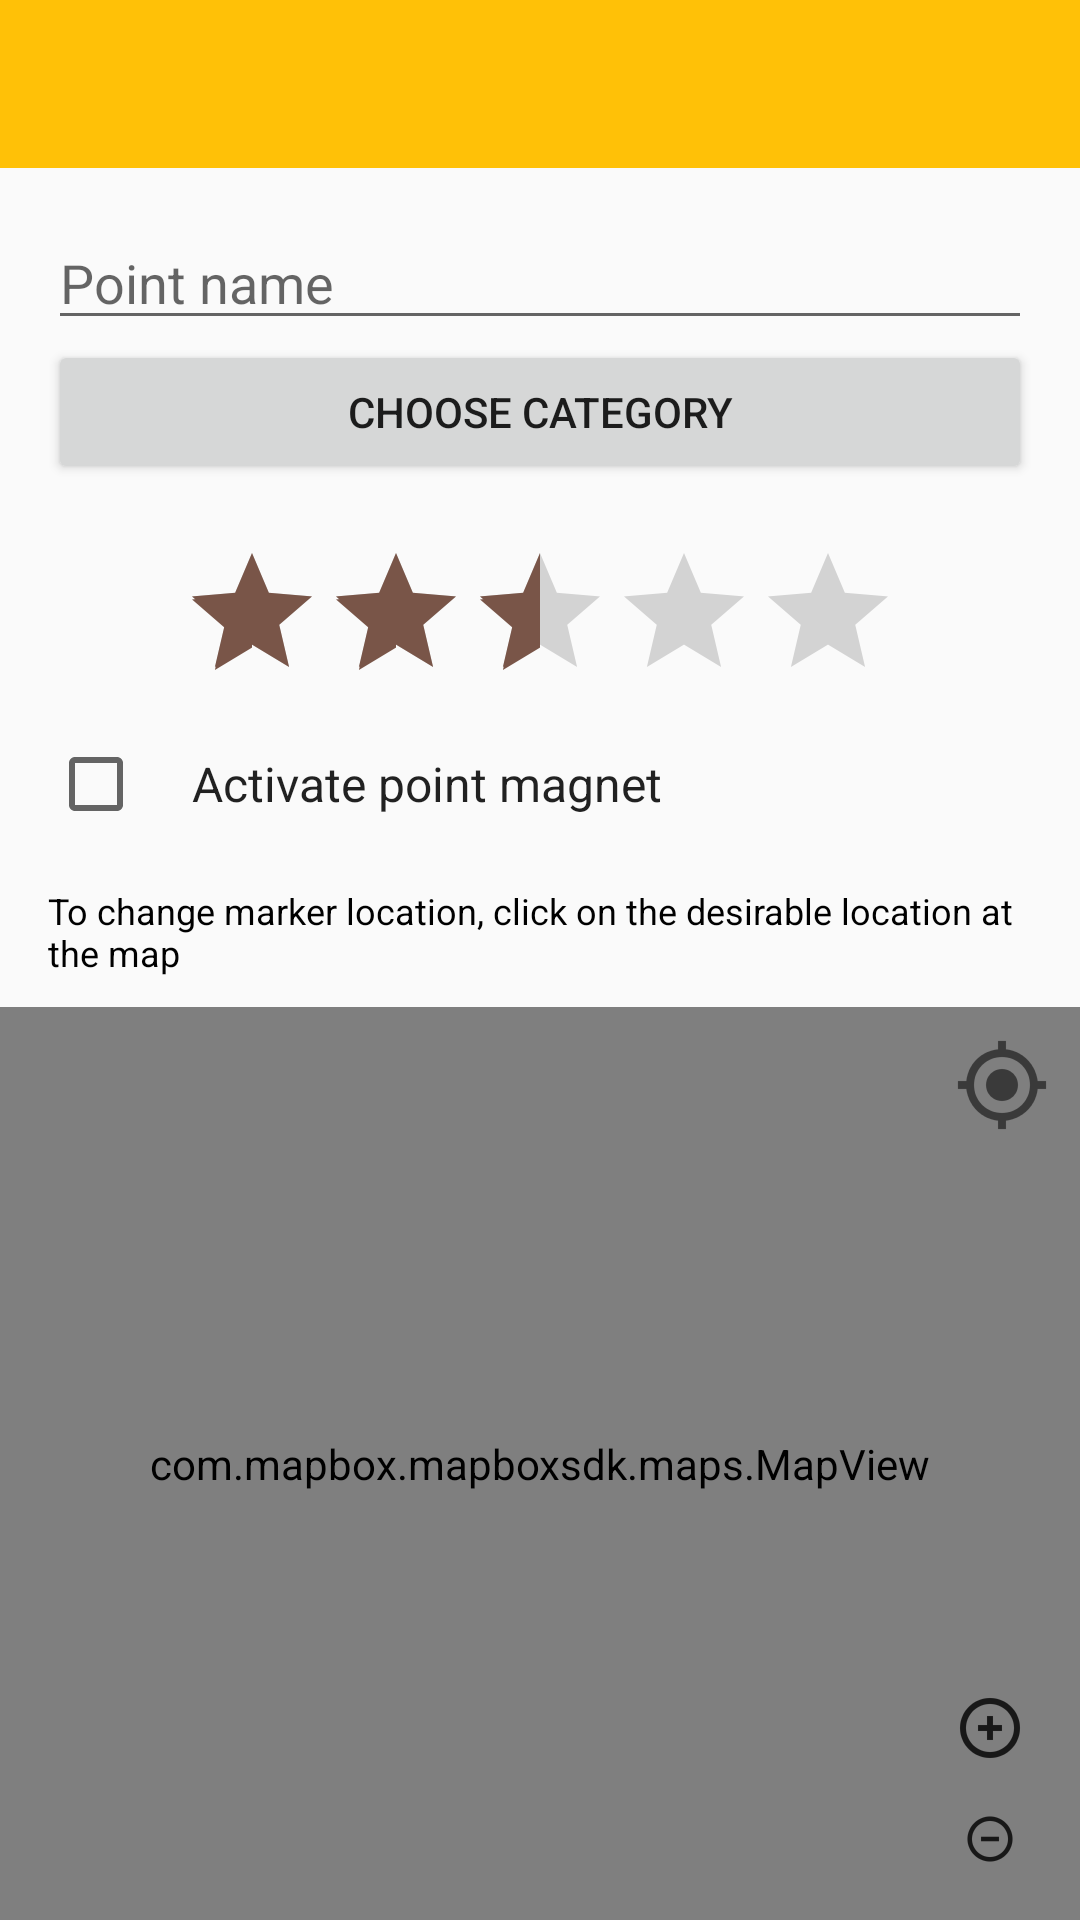

Screen size 1080*1920. Icon name, then its center in pixels as point (x, y):
zoom in: point (990, 1728)
zoom out: point (990, 1839)
